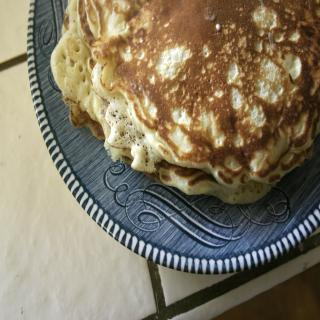Pancake: (84, 0, 320, 184)
